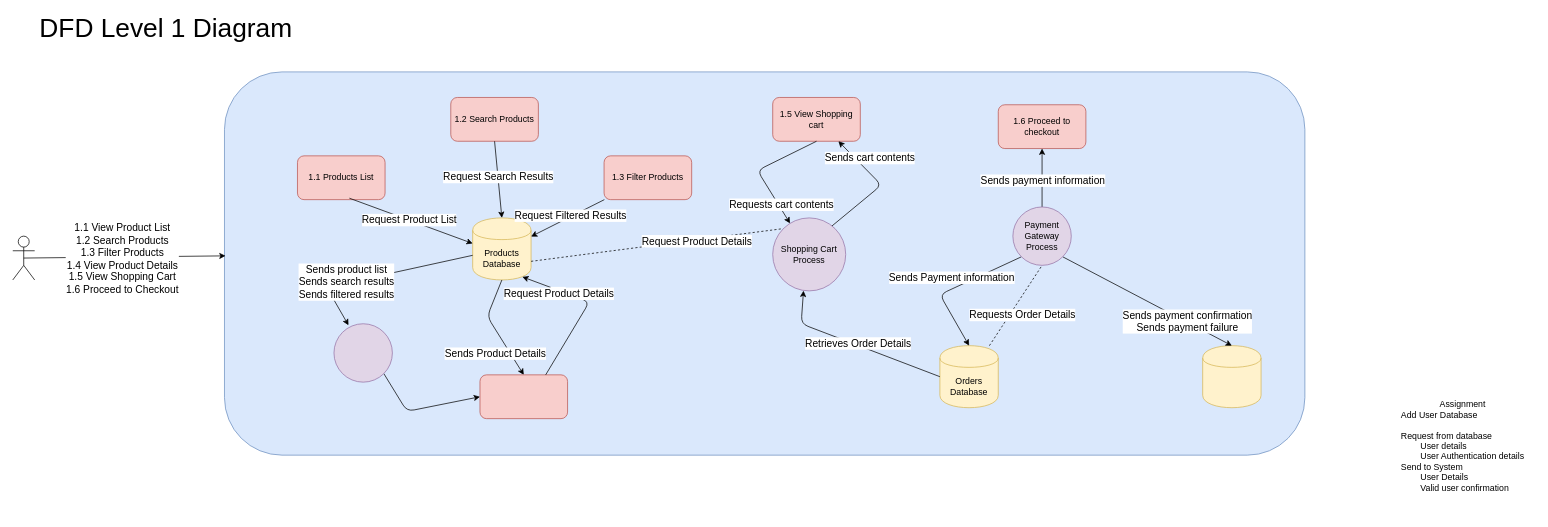
This 1548x527 diagram has some shape labels left out. Here are the shapes that lost their labels. From the top down, the centre of each, then its label:
At (23,257): "Actor".
At (362,352): "Product Display Process".
At (523,396): "1.4 View Product details".
At (1231,376): "Payment Gateway Database".
